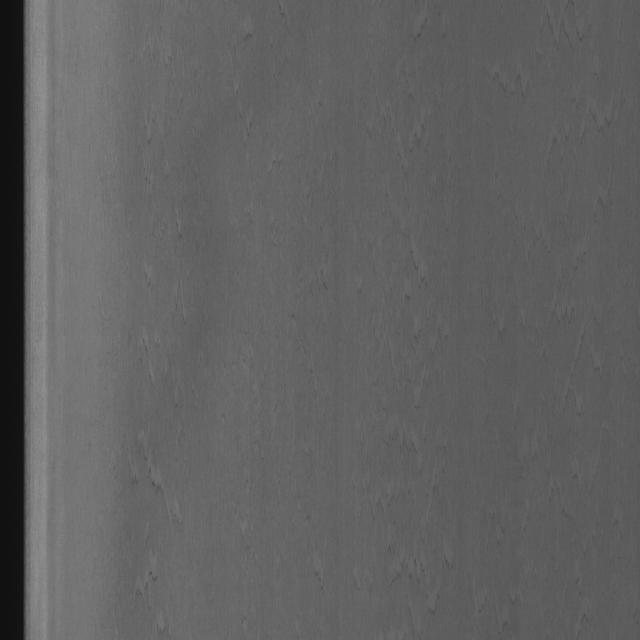inclusion: (370, 56, 457, 546), (131, 85, 205, 554)
